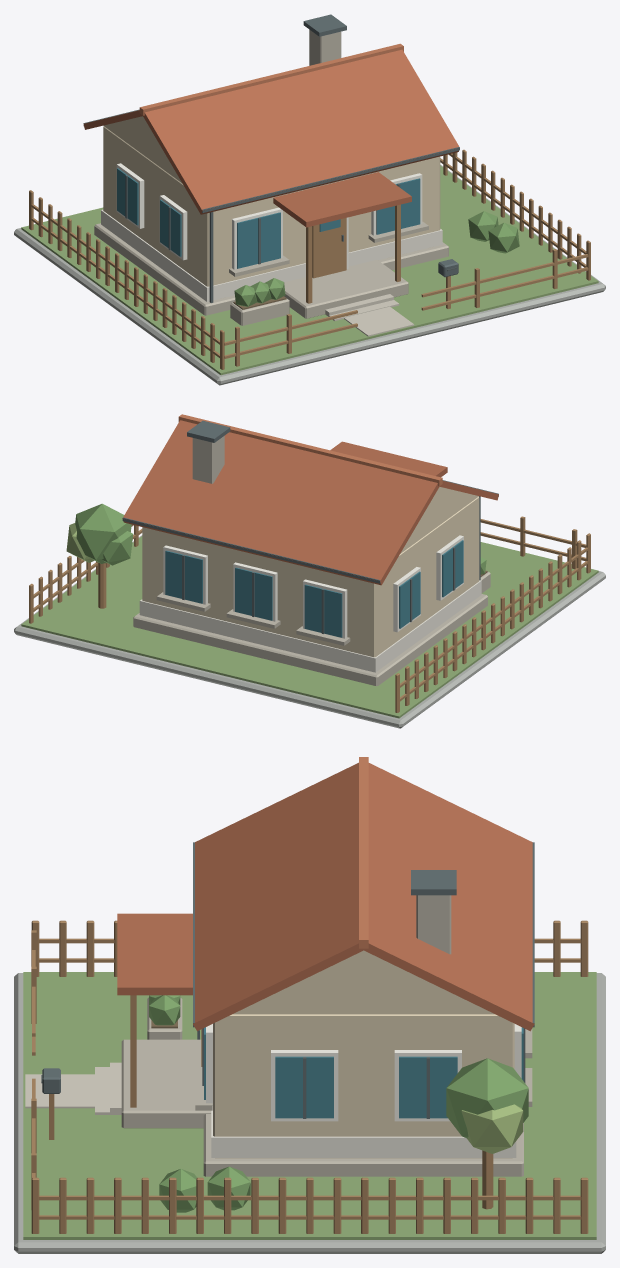
Rendered from Starter_Detached_House.fbx.
3 renders of one model, top to bottom at view 1: azimuth 30°, elevation 25°; view 2: azimuth 150°, elevation 25°; view 3: azimuth 270°, elevation 25°, orthographic. The views are drawn at different scales.
Visible parts, largest first — view 1: Pitched Roof Slope, Starter Lawn, Cream House Walls, Starter Plot Base, Porch Canopy, Lower Wall Band, Porch Deck, House Foundation, Starter Front Window Glass, Roof Ridge Cap, Timber Front Door, Gable Wall Volume (+23 smaller); view 2: Pitched Roof Slope.001, Starter Lawn, Cream House Walls, Starter Plot Base, Lower Wall Band, House Foundation, Faceted Tree Canopy, Roof Ridge Cap, Starter Rear Window Glass, Starter Rear Window Glass.001, Gable Wall Volume, Starter Rear Window Glass.002 (+16 smaller); view 3: Starter Lawn, Pitched Roof Slope, Pitched Roof Slope.001, Cream House Walls, Starter Plot Base, Gable Wall Volume, Porch Deck, Porch Canopy, House Foundation, Lower Wall Band, Faceted Tree Canopy, Starter East Window Glass (+15 smaller).
Boxes of the visible parts, bbox=[...] form: Pitched Roof Slope: bbox=[143, 49, 459, 214]; Starter Lawn: bbox=[21, 165, 598, 375]; Cream House Walls: bbox=[103, 126, 440, 286]; Starter Plot Base: bbox=[14, 164, 605, 385]; Porch Canopy: bbox=[273, 172, 411, 227]; Lower Wall Band: bbox=[101, 209, 442, 301]; Porch Deck: bbox=[284, 259, 408, 318]; House Foundation: bbox=[94, 223, 448, 315]; Starter Front Window Glass: bbox=[237, 212, 280, 268]; Roof Ridge Cap: bbox=[139, 43, 403, 115]; Timber Front Door: bbox=[312, 218, 346, 278]; Gable Wall Volume: bbox=[104, 116, 181, 182]; Pitched Roof Slope.001: bbox=[122, 420, 439, 585]; Starter Lawn: bbox=[21, 536, 598, 718]; Cream House Walls: bbox=[142, 496, 479, 657]; Starter Plot Base: bbox=[14, 535, 605, 728]; Lower Wall Band: bbox=[139, 580, 481, 672]; House Foundation: bbox=[133, 594, 487, 686]; Faceted Tree Canopy: bbox=[75, 503, 131, 563]; Roof Ridge Cap: bbox=[178, 414, 442, 486]; Starter Rear Window Glass: bbox=[304, 584, 342, 637]; Starter Rear Window Glass.001: bbox=[235, 567, 272, 620]; Gable Wall Volume: bbox=[400, 487, 478, 553]; Starter Rear Window Glass.002: bbox=[165, 550, 202, 603]; Starter Lawn: bbox=[23, 972, 596, 1239]; Pitched Roof Slope: bbox=[193, 762, 365, 1031]; Pitched Roof Slope.001: bbox=[362, 763, 534, 1031]; Cream House Walls: bbox=[213, 1014, 514, 1158]; Starter Plot Base: bbox=[14, 973, 605, 1253]; Gable Wall Volume: bbox=[233, 950, 494, 1014]; Porch Deck: bbox=[121, 1039, 211, 1128]; Porch Canopy: bbox=[117, 913, 192, 995]; House Foundation: bbox=[203, 1114, 523, 1176]; Lower Wall Band: bbox=[211, 1106, 516, 1157]; Faceted Tree Canopy: bbox=[446, 1058, 528, 1138]; Starter East Window Glass: bbox=[275, 1056, 333, 1118].
Size of the model in its own units: 1200 by 575 by 1100.
